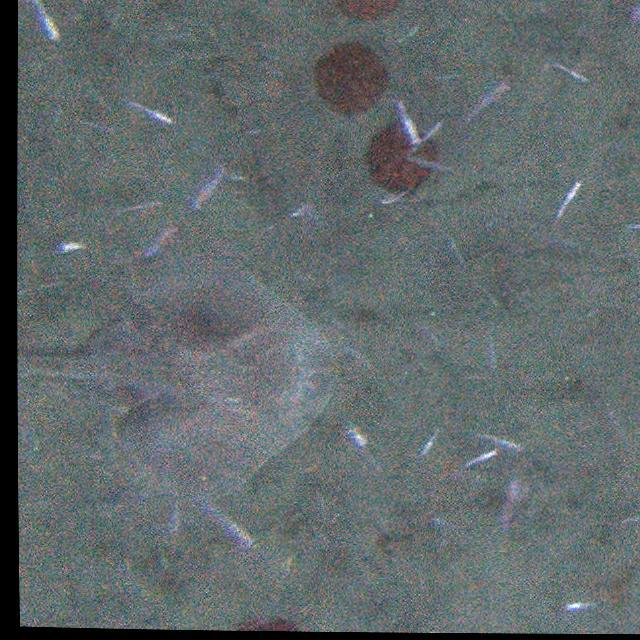skate: (30, 260, 341, 498)
